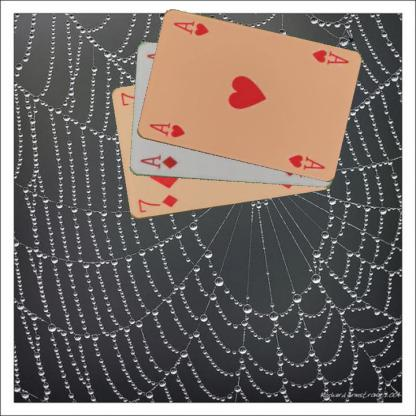7d: (135, 192, 179, 214)
Ad: (137, 152, 178, 170)
Ah: (309, 47, 350, 66), (146, 120, 186, 139)
